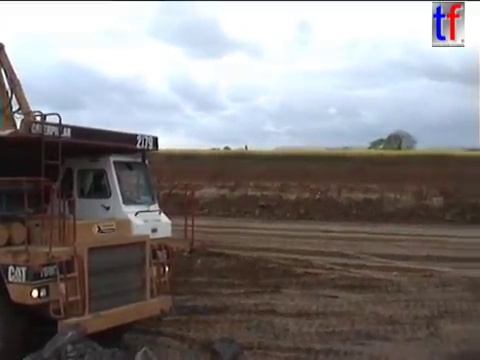excavator: (1, 38, 46, 196)
truck: (1, 107, 177, 360)
